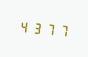four: (18, 17, 29, 35)
seven: (42, 19, 53, 37), (54, 20, 65, 38)
three: (30, 18, 41, 36)
